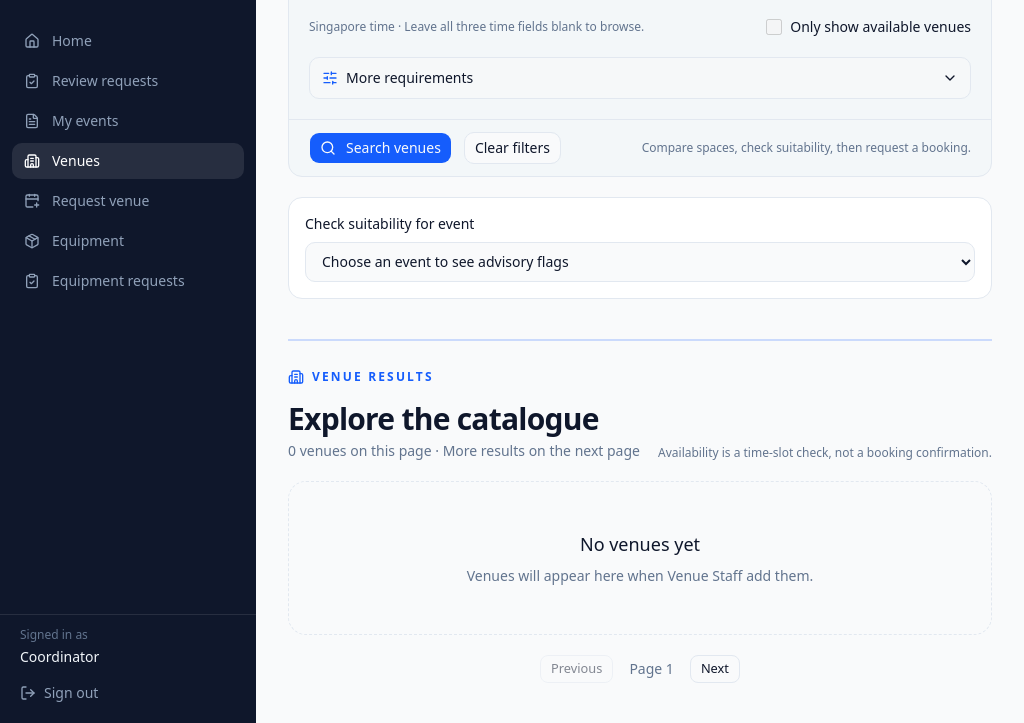
it: an empty later catalogue page offers navigation back
(page scrolled)
Check: the heading "No venues yet" is shown, box [580,532,700,556]
Step 1. Click the button "Next" → click(715, 668), box [690,654,740,682]
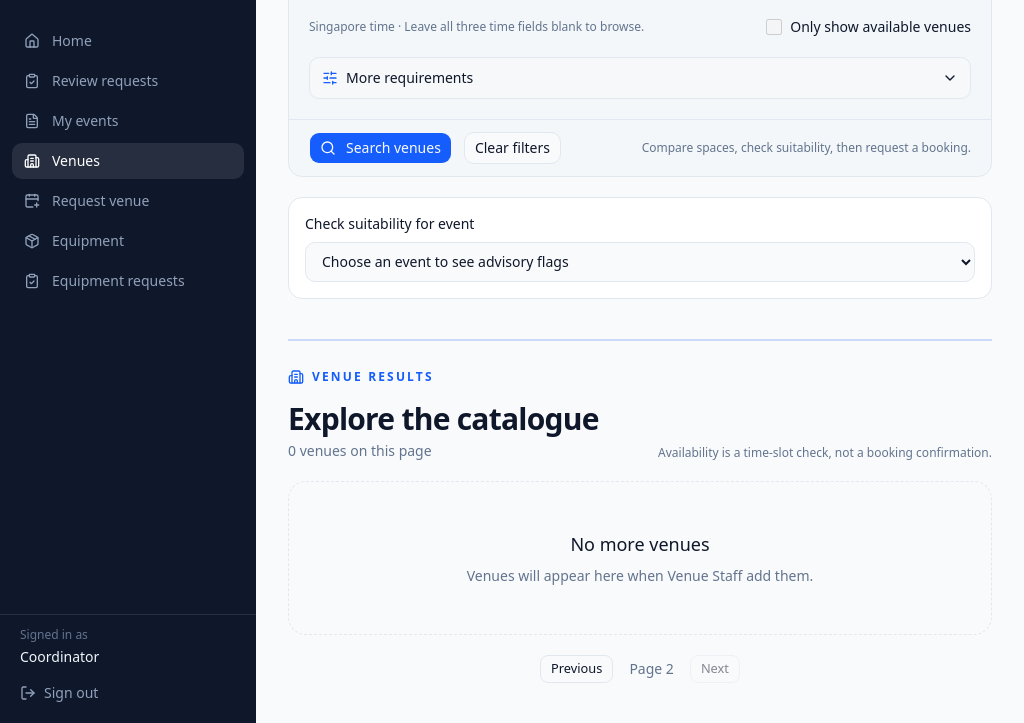
Check: the heading "No more venues" is shown, box [570,532,710,556]
Check: the button "Previous" is enabled, box [540,654,613,682]
